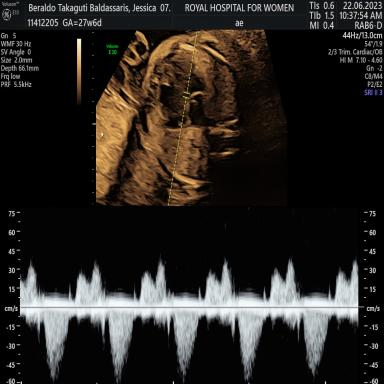Ultrasound-Waves: (23, 214, 357, 384)
